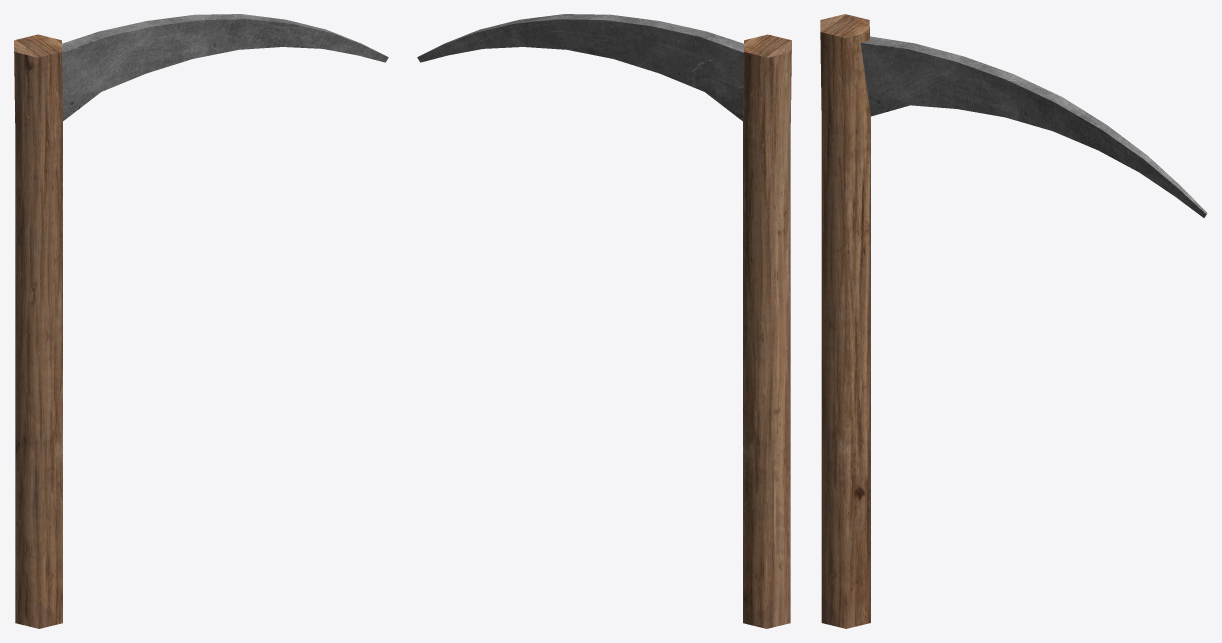
File: Tool_Sickle.glb
The picture shows the model from 3 angles, left to right: view 1: azimuth 30°, elevation 25°; view 2: azimuth 150°, elevation 25°; view 3: azimuth 330°, elevation 25°; orthographic projection. The views are drawn at different scales.
Parts seen in each view (by area): view 1: Tool_Sickle; view 2: Tool_Sickle; view 3: Tool_Sickle.
Part boxes in pixels (box(x1,y1,x2,y2)): Tool_Sickle: box(14, 14, 388, 628); Tool_Sickle: box(417, 14, 791, 628); Tool_Sickle: box(820, 14, 1207, 628).
Bounding box in the file's own units: 0.3424 × 0.5 × 0.0379.
Materials: 1 (1 with a texture image).
